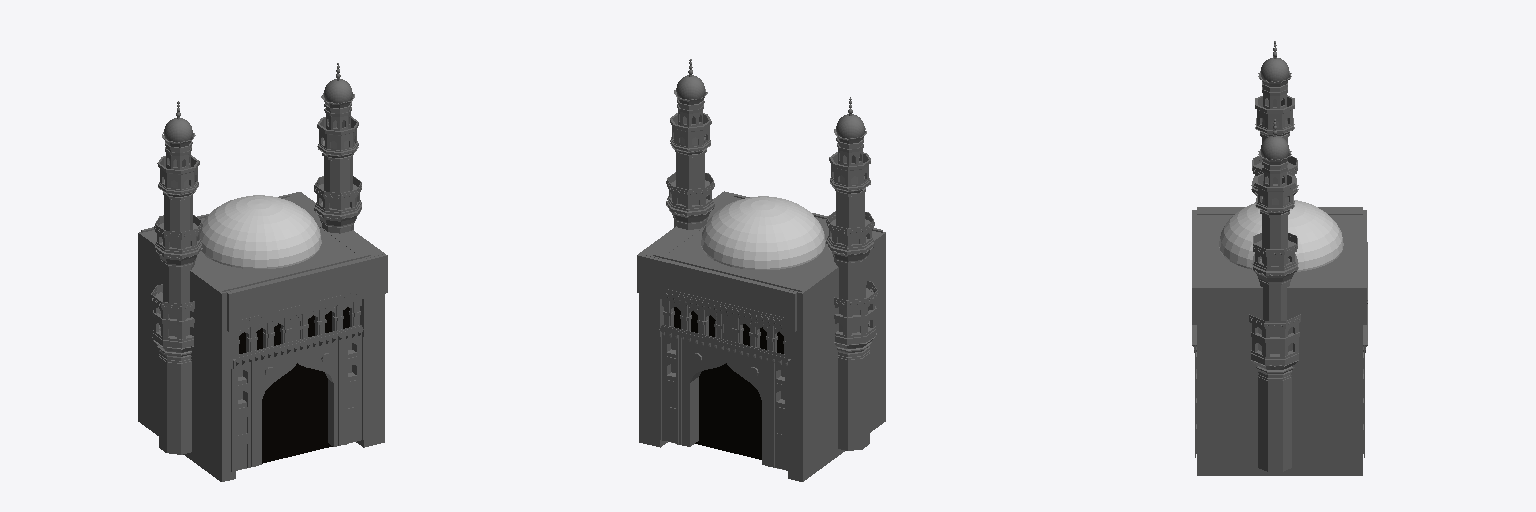
The model's file is villa_andalucian.obj.
3 views of the same model, side by side, from view 1: azimuth 30°, elevation 25°; view 2: azimuth 150°, elevation 25°; view 3: azimuth 270°, elevation 25° (orthographic).
Parts seen in each view (by area): view 1: Cube.002_Cube.004, Circle.010_Circle.011, Sphere, Cube_Cube.019; view 2: Cube.002_Cube.004, Circle.010_Circle.011, Sphere, Cube_Cube.019; view 3: Cube.002_Cube.004, Circle.010_Circle.011, Sphere.
Boxes of the visible parts, <box> form: Cube.002_Cube.004: <box>138,192,387,481</box>; Circle.010_Circle.011: <box>151,63,361,454</box>; Sphere: <box>200,195,321,268</box>; Cube_Cube.019: <box>239,307,349,463</box>; Cube.002_Cube.004: <box>637,191,885,481</box>; Circle.010_Circle.011: <box>666,59,878,450</box>; Sphere: <box>701,196,825,269</box>; Cube_Cube.019: <box>674,307,783,459</box>; Cube.002_Cube.004: <box>1192,207,1367,475</box>; Circle.010_Circle.011: <box>1249,41,1300,471</box>; Sphere: <box>1219,200,1343,271</box>.
Bounding box in the file's own units: 5.69 × 9.39 × 4.23.